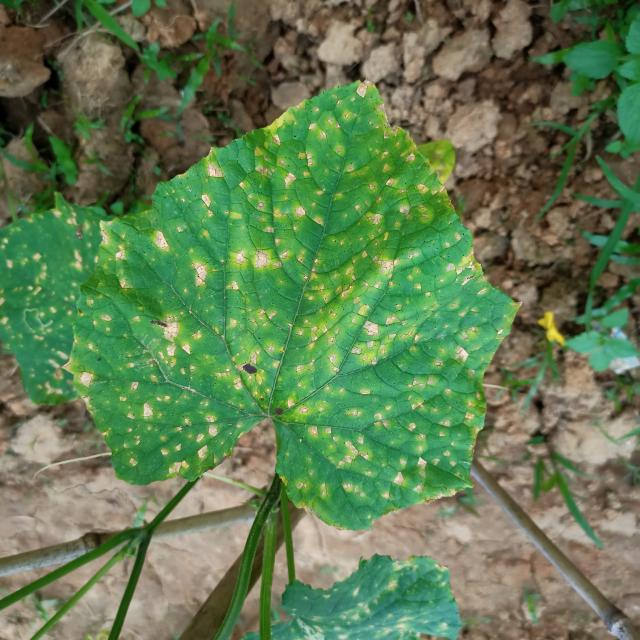disease_cucumber: (94, 110, 493, 513), (0, 217, 91, 393)
